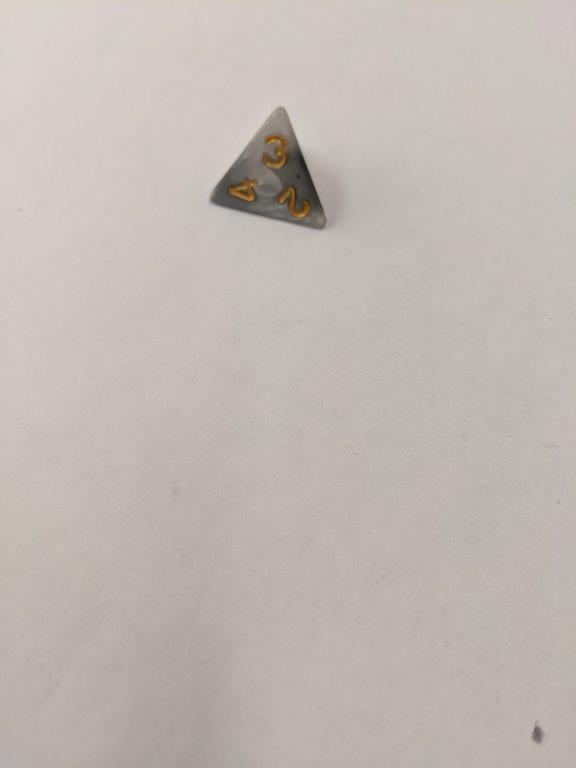d4-3: (200, 105, 331, 239)
